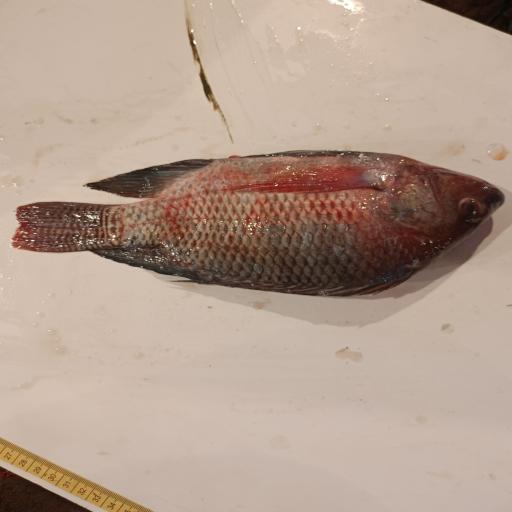Tilapia: (11, 150, 505, 298)
